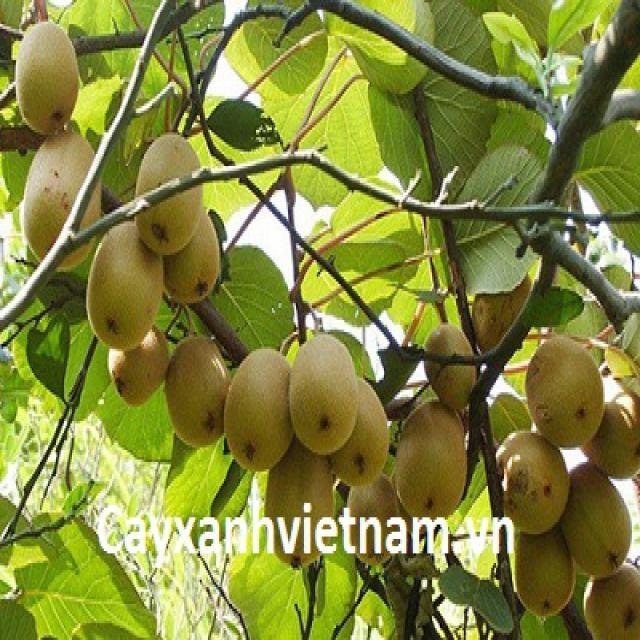kiwi: (22, 119, 101, 268), (86, 218, 163, 348), (393, 401, 465, 524), (132, 131, 203, 252), (225, 348, 294, 471), (526, 338, 603, 446), (289, 336, 356, 456), (494, 429, 567, 535), (267, 451, 333, 567), (566, 463, 632, 578), (15, 20, 78, 136), (168, 333, 229, 446), (328, 379, 389, 487), (161, 191, 220, 300), (515, 511, 574, 617), (473, 259, 534, 360), (585, 374, 640, 477), (110, 312, 169, 406), (582, 559, 640, 639), (424, 323, 477, 403)
